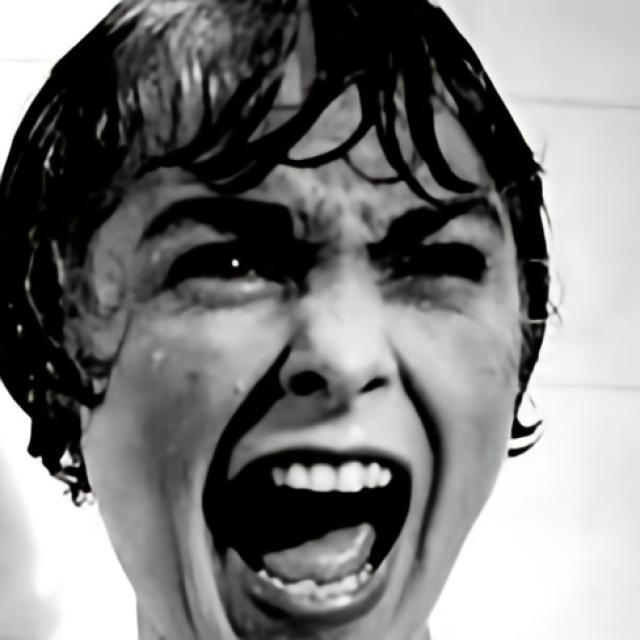Fear: (78, 74, 526, 640)
